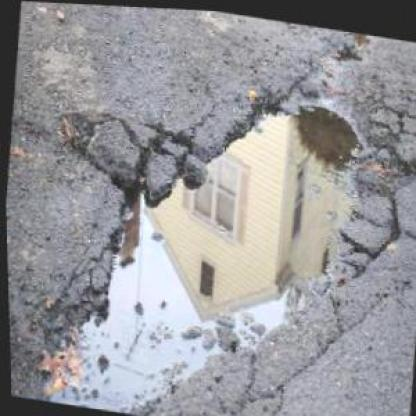pothole: (26, 37, 415, 414)
